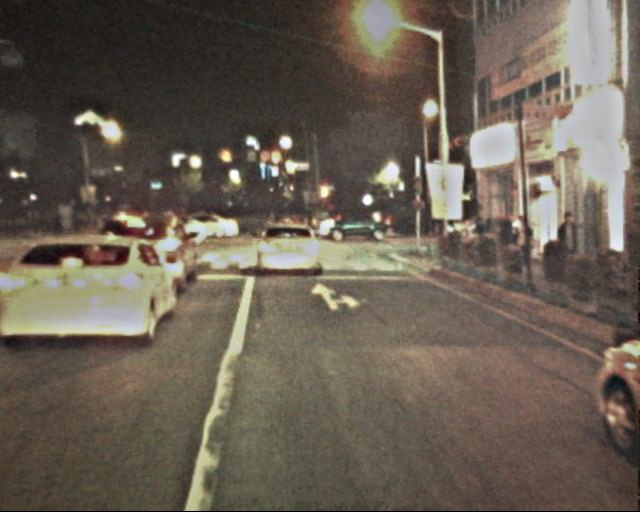person: (36, 207, 108, 234), (558, 212, 581, 280), (508, 212, 533, 271), (264, 210, 311, 232)
